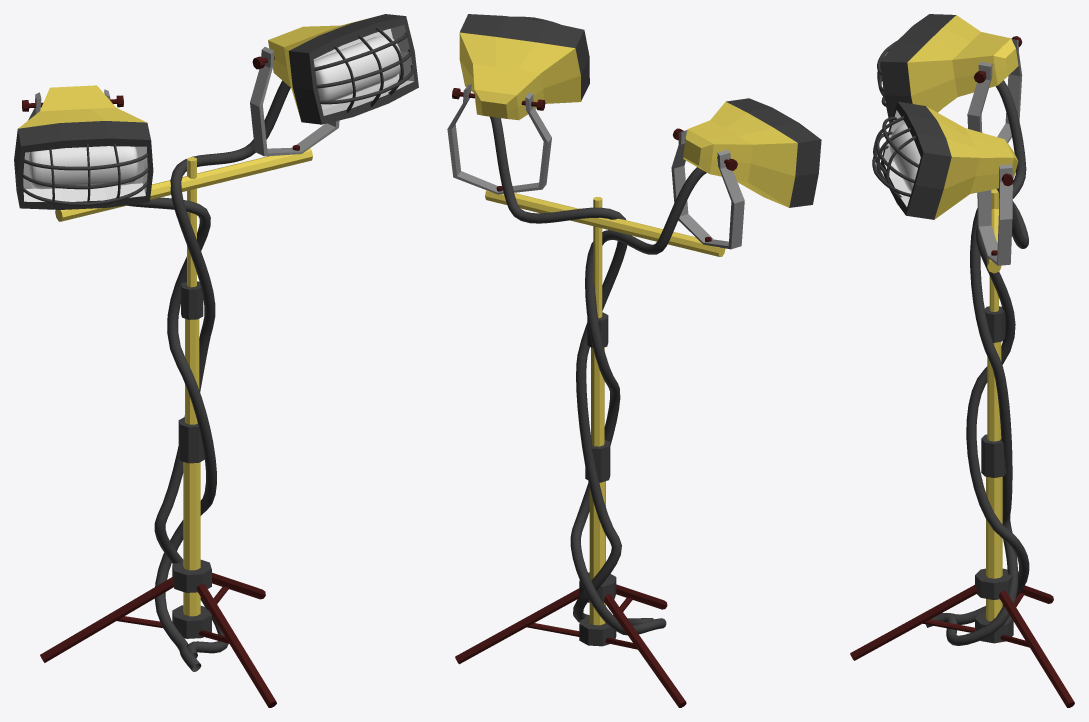
The model's file is Worklight.glb.
3 renders of one model, left to right at view 1: azimuth 30°, elevation 25°; view 2: azimuth 150°, elevation 25°; view 3: azimuth 270°, elevation 25°, orthographic. The views are drawn at different scales.
Parts seen in each view (by area): view 1: Cube, Cube.002, BézierCurve.013, BézierCurve.012, Cube.001, Cube.003, Cylinder.001, Cylinder.006, Plane.001, Cylinder.008, Cylinder.009, Cylinder.004 (+5 smaller); view 2: Cube.002, Cube, BézierCurve.013, BézierCurve.012, Plane, Cylinder.001, Plane.001, Cylinder.006, Cylinder.008, Cylinder.010, Cylinder.004, Cylinder.003 (+2 smaller); view 3: Cube, Cube.002, BézierCurve.012, BézierCurve.013, Plane.001, Plane, Cylinder.006, Cylinder.009, Cylinder.010, Cube.003, Cylinder.004, Cylinder.007 (+4 smaller).
Part boxes in pixels (x1,y1,x2,y2): Cube: (14,85,153,209); Cube.002: (268,14,418,124); BézierCurve.013: (154,80,290,658); BézierCurve.012: (127,197,216,671); Cube.001: (28,146,138,189); Cube.003: (313,35,401,104); Cylinder.001: (55,148,312,221); Cylinder.006: (183,462,200,616); Plane.001: (250,47,339,156); Cylinder.008: (40,577,173,662); Cylinder.009: (196,584,276,707); Cylinder.004: (185,318,199,424); Cube.002: (459,14,589,120); Cube: (683,98,821,207); BézierCurve.013: (490,116,654,625); BézierCurve.012: (570,167,706,635); Plane: (671,128,744,249); Cylinder.001: (485,190,725,256); Plane.001: (447,84,551,194); Cylinder.006: (589,481,605,625); Cylinder.008: (604,594,686,707); Cylinder.010: (455,588,579,664); Cylinder.004: (591,347,604,446); Cylinder.003: (593,197,602,318); Cube: (880,14,1018,122); Cube.002: (880,101,1018,219); BézierCurve.012: (926,80,1029,627); BézierCurve.013: (937,188,1028,645); Plane.001: (977,164,1013,265); Plane: (967,36,1022,142); Cylinder.006: (986,476,1002,621); Cylinder.009: (850,585,976,660); Cylinder.010: (999,590,1074,707); Cube.003: (889,123,920,191); Cylinder.004: (987,342,1001,441); Cylinder.007: (981,434,1006,477).
Bounding box in the file's own units: 13.59 × 21.07 × 7.27.
